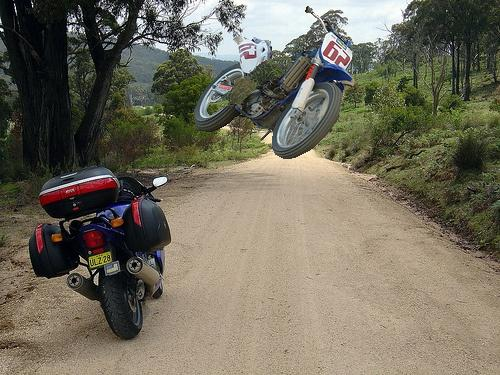tampered: (195, 7, 355, 159)
